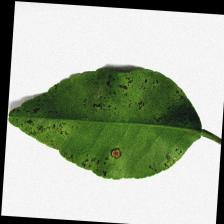canker: (89, 80, 156, 163)
